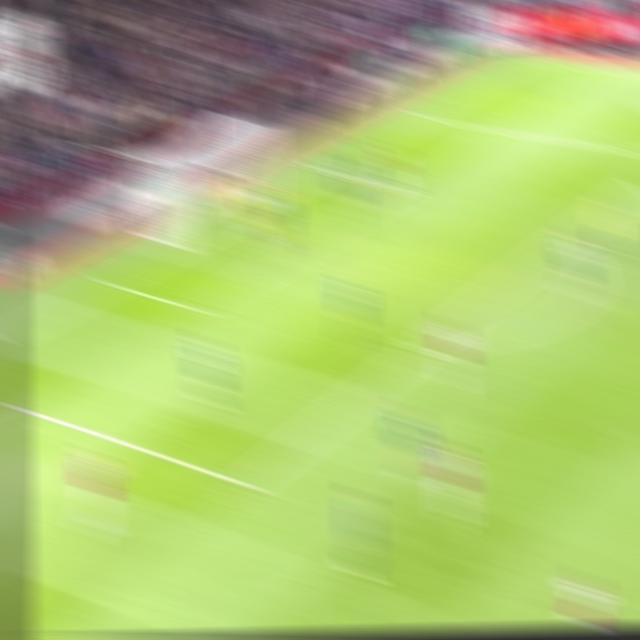bigarea_bottom_inner: (228, 465, 267, 501)
bigarea_top_outter: (407, 105, 437, 125)
bottom_arc_area_intersection: (405, 337, 436, 363)
corner: (510, 48, 545, 68)
smallarea_bottom_inner: (180, 292, 216, 324)
smallarea_bottom_outter: (95, 269, 127, 295)
smallarea_top_inner: (386, 174, 418, 198)
smallarea_top_outter: (308, 159, 339, 180)
top_arc_area_intersection: (559, 224, 587, 246)
